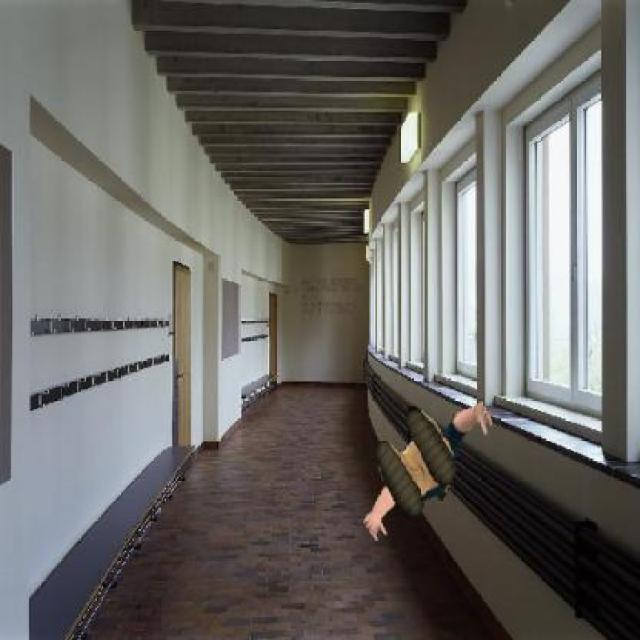Person: (360, 392, 494, 540)
